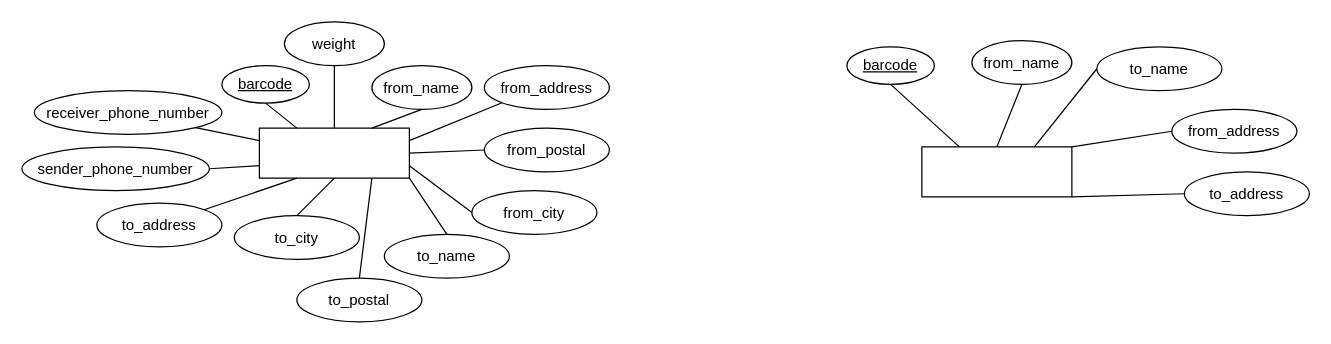
Some shapes in this 1331 by 344 pixel diagram are drawn without their labels. Here are the shapes that lost their labels. From the top down, the centre of each, then its label:
At [333,152]: "parcels_to_deliver".
At [996,171]: "delivered_parcels".
